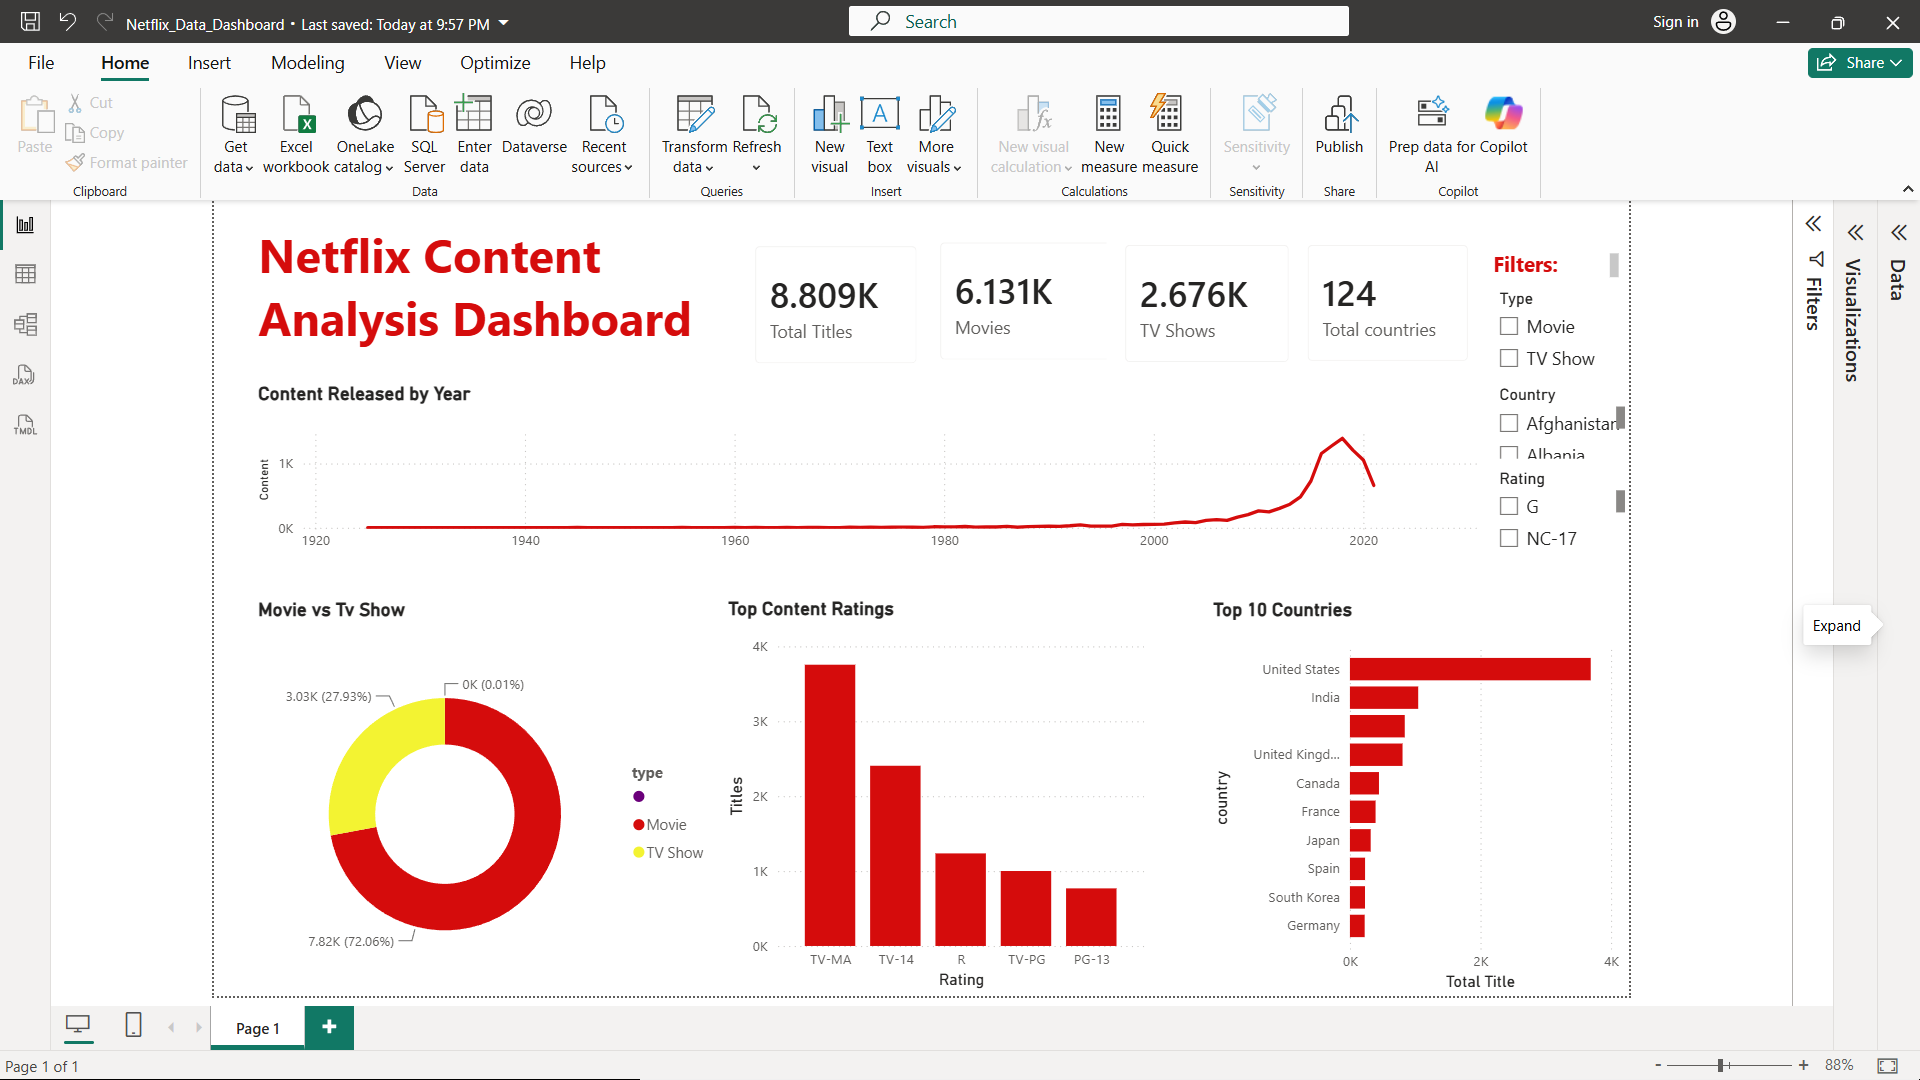

This screenshot's page, from the dashboard's own definition file:
{"tool":"powerbi","page":{"name":"Page 1","canvas":[1280,720],"ordinal":0},"visuals":[{"type":"cardVisual","fields":{"Data":["Count(netflix_titles.show_id)"]},"box":[472.7,24.6,180.6,140.2],"z":0},{"type":"cardVisual","fields":{"Data":["Count(netflix_titles.show_id)1"]},"box":[639.4,21.7,192.4,140.2],"z":1000},{"type":"cardVisual","fields":{"Data":["Count(netflix_titles.show_id)"]},"box":[807.6,23.2,182.9,140.2],"z":2000},{"type":"cardVisual","fields":{"Data":["Count(netflix_titles.country)"]},"box":[972.9,23.2,179.8,139.2],"z":3000},{"type":"donutChart","title":"Movie vs Tv Show","fields":{"Y":["CountNonNull(netflix_titles.show_id)"],"Series":["netflix_titles.type"]},"box":[34.8,361,421.9,359.6],"z":4000},{"type":"barChart","title":"Top 10 Countries","fields":{"Category":["netflix_titles.country"],"Y":["CountNonNull(netflix_titles.show_id)"]},"box":[899,361,377,359.6],"z":5000},{"type":"lineChart","title":"Content Released by Year","fields":{"Category":["netflix_titles.release_year"],"Y":["CountNonNull(netflix_titles.show_id)"]},"box":[35,165.4,1117.5,161.4],"z":6000},{"type":"columnChart","title":"Top Content Ratings","fields":{"Category":["netflix_titles.rating"],"Y":["CountNonNull(netflix_titles.show_id)"]},"box":[459.6,359.6,386.6,359],"z":7000},{"type":"slicer","fields":{"Values":["netflix_titles.type"]},"box":[1149.5,75.6,131.2,86.3],"z":8000},{"type":"slicer","fields":{"Values":["netflix_titles.rating"]},"box":[1149.5,238.3,131.2,86.3],"z":9000},{"type":"slicer","fields":{"Values":["netflix_titles.country"]},"box":[1149.5,162.8,131.2,75.9],"z":10000},{"type":"textbox","box":[35,15,438,150],"z":11000},{"type":"textbox","box":[1152.7,42,123.2,33.3],"z":12000}]}

Visuals, with their boxes on the page's 1280x720 design canvas (x1, y1, x2, y2). These are canvas units, not pixel positions in the 1920x1080 screenshot, which may show the page scaled, cropped or inside an application window:
cardVisual - Count(netflix_titles.show_id): (473,25,653,165)
cardVisual - Count(netflix_titles.show_id)1: (639,22,832,162)
cardVisual - Count(netflix_titles.show_id): (808,23,990,163)
cardVisual - Count(netflix_titles.country): (973,23,1153,162)
"Movie vs Tv Show" donutChart: (35,361,457,721)
"Top 10 Countries" barChart: (899,361,1276,721)
"Content Released by Year" lineChart: (35,165,1152,327)
"Top Content Ratings" columnChart: (460,360,846,719)
slicer - netflix_titles.type: (1150,76,1281,162)
slicer - netflix_titles.rating: (1150,238,1281,325)
slicer - netflix_titles.country: (1150,163,1281,239)
textbox: (35,15,473,165)
textbox: (1153,42,1276,75)
